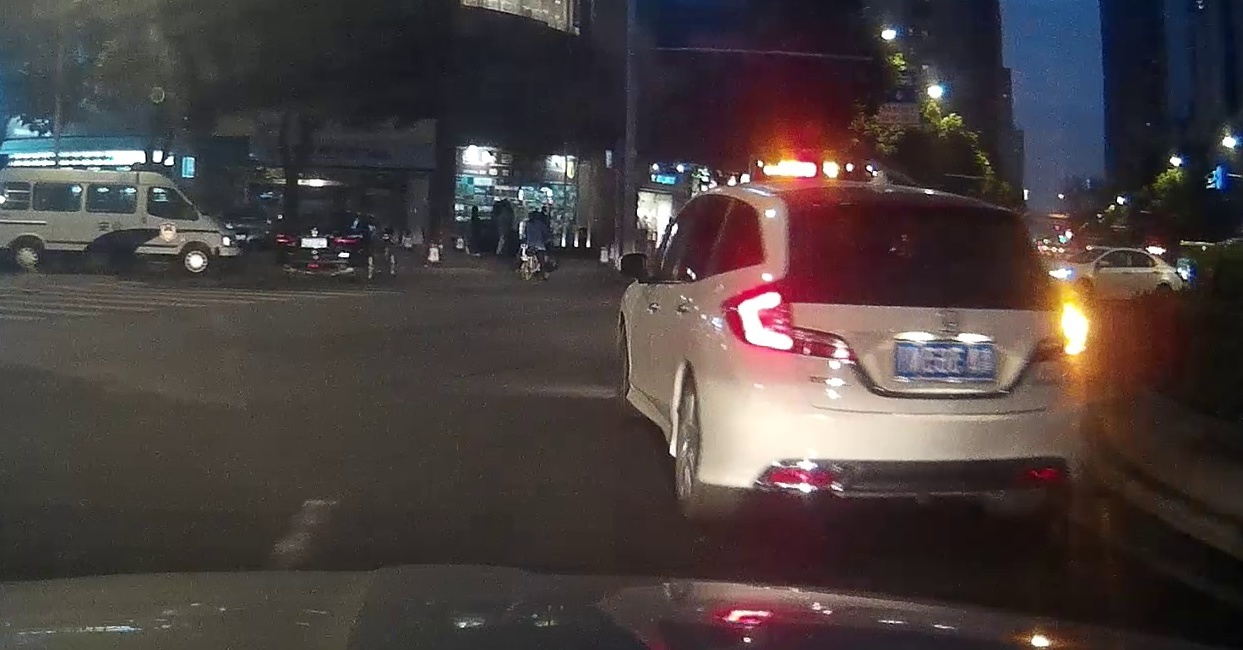L_light: (720, 278, 855, 362), (274, 232, 298, 245)
R_light: (1023, 299, 1088, 362), (330, 232, 363, 247)
T_light: (884, 203, 936, 214), (319, 213, 334, 217)
night-no: (274, 209, 364, 284)
night-right: (715, 180, 1089, 524)
